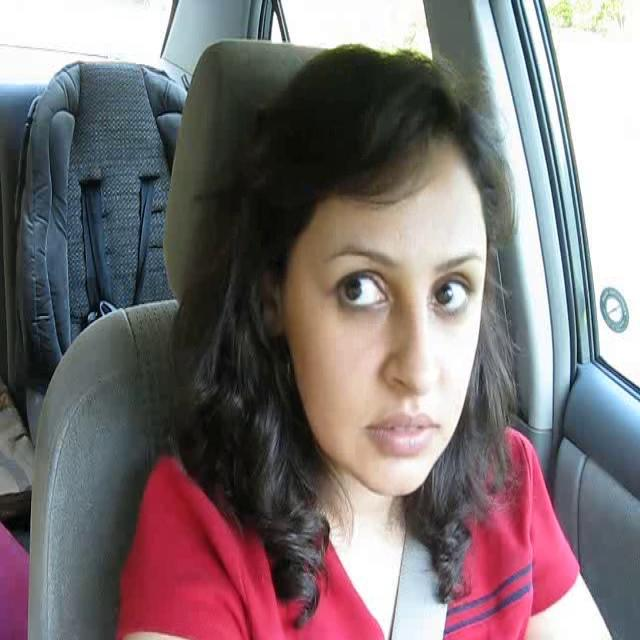close: (363, 408, 438, 461)
